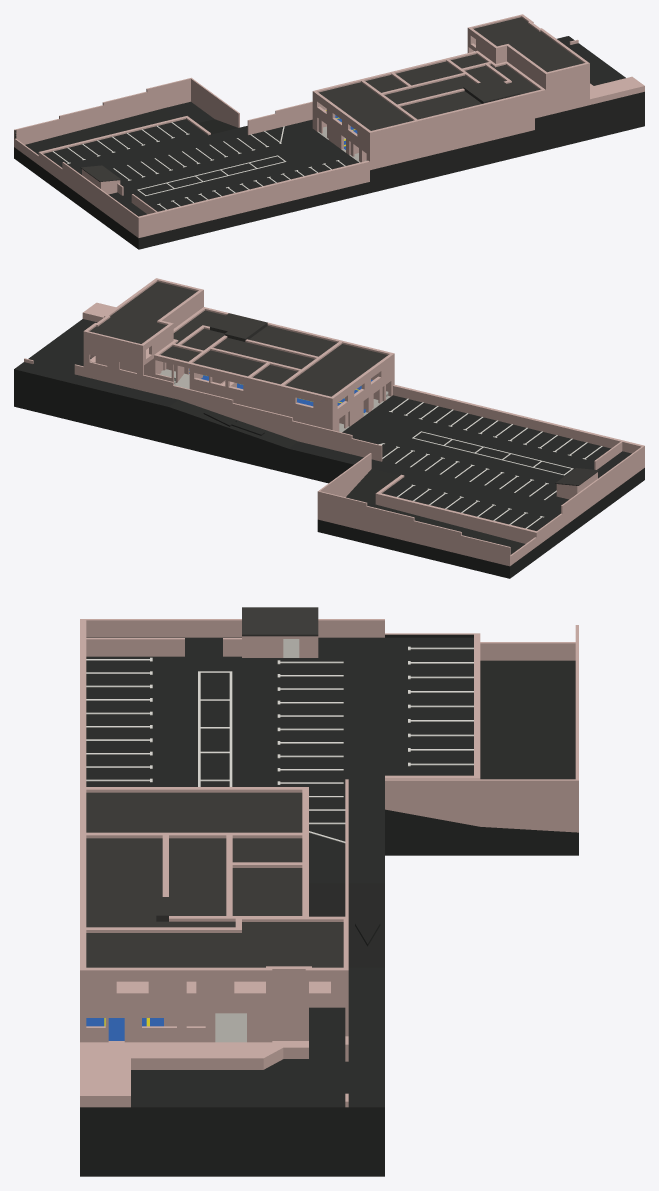
File: mam_v2_0_1.glb
The picture shows the model from 3 angles, top to bottom: view 1: azimuth 30°, elevation 25°; view 2: azimuth 150°, elevation 25°; view 3: azimuth 270°, elevation 25°; orthographic projection. The views are drawn at different scales.
Visible parts, largest first — view 1: parking, masjid_roof, masjid_ground_floor, masjid_first_floor; view 2: parking, masjid_ground_floor, masjid_roof, masjid_first_floor; view 3: parking, masjid_roof, masjid_ground_floor, masjid_first_floor.
Boxes of the visible parts, <box> form: parking: <box>14,77,369,249</box>; masjid_roof: <box>312,14,589,135</box>; masjid_ground_floor: <box>303,36,644,193</box>; masjid_first_floor: <box>312,82,589,154</box>; parking: <box>312,384,644,578</box>; masjid_ground_floor: <box>14,302,394,479</box>; masjid_roof: <box>83,278,394,401</box>; masjid_first_floor: <box>95,350,394,421</box>; parking: <box>80,607,578,861</box>; masjid_roof: <box>80,787,348,1007</box>; masjid_ground_floor: <box>80,827,384,1176</box>; masjid_first_floor: <box>80,981,308,1042</box>.
Bounding box in the file's own units: 81.13 × 11.69 × 34.61.
